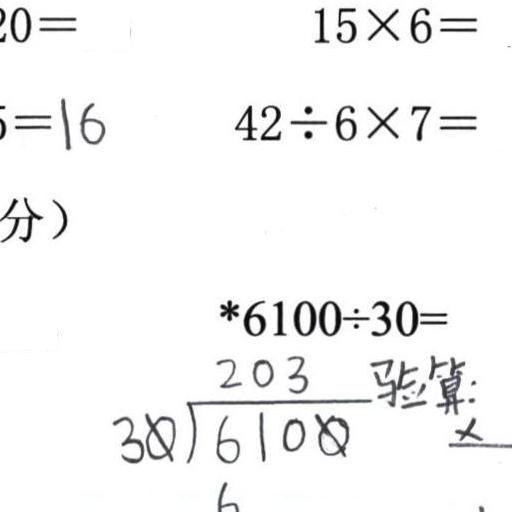ans: (54, 92, 105, 150)
